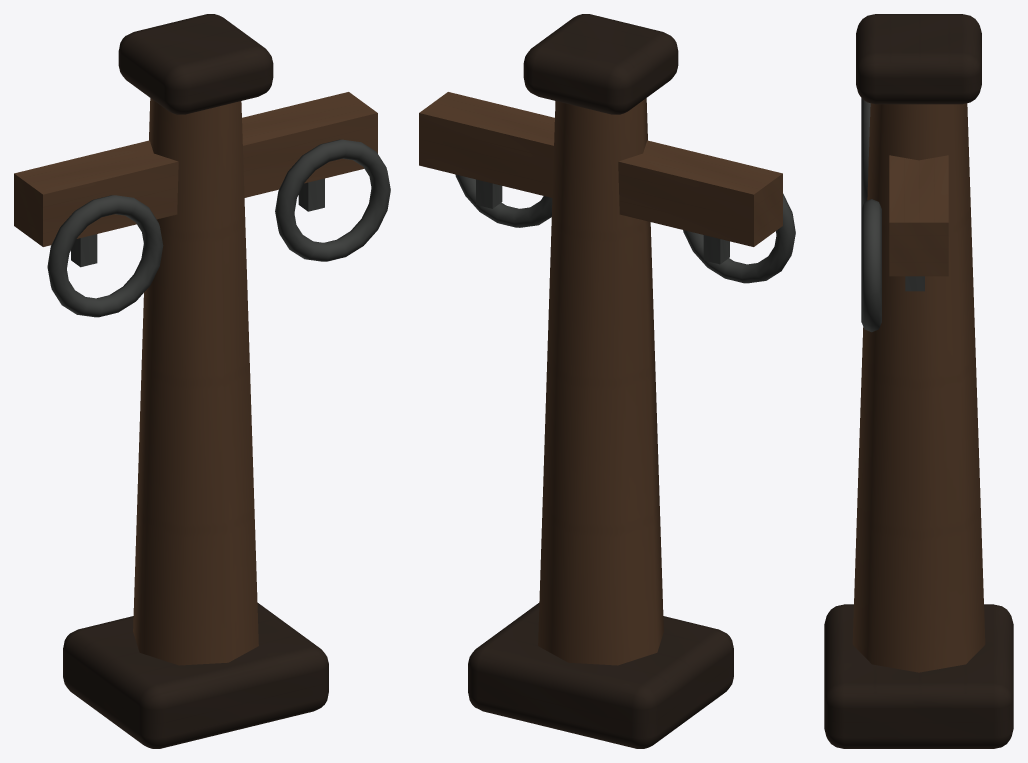
File: sk-hitching-post.glb
3 views of the same model, side by side, from view 1: azimuth 30°, elevation 25°; view 2: azimuth 150°, elevation 25°; view 3: azimuth 270°, elevation 25° (orthographic).
Visible parts, largest first — view 1: settlement:hitching_post-static-wood (×2), settlement:hitching_post-static-metal; view 2: settlement:hitching_post-static-wood (×2), settlement:hitching_post-static-metal; view 3: settlement:hitching_post-static-wood (×2), settlement:hitching_post-static-metal.
Boxes of the visible parts, bbox=[...] form: settlement:hitching_post-static-wood (×2): bbox=[14, 14, 377, 748]; settlement:hitching_post-static-metal: bbox=[47, 139, 390, 317]; settlement:hitching_post-static-wood (×2): bbox=[419, 14, 782, 748]; settlement:hitching_post-static-metal: bbox=[455, 174, 795, 283]; settlement:hitching_post-static-wood (×2): bbox=[824, 14, 1013, 748]; settlement:hitching_post-static-metal: bbox=[861, 98, 924, 332].
Bounding box in the file's own units: 0.51 × 0.945 × 0.24.
3 materials, 3 textured.
